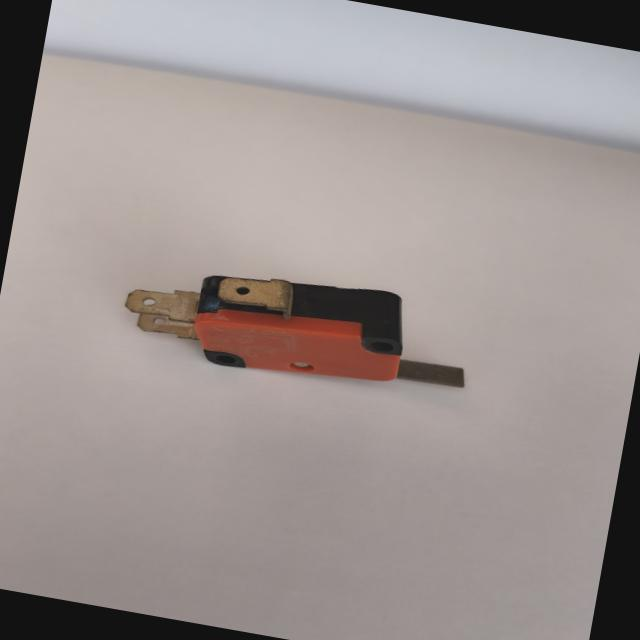switch: (111, 242, 502, 419)
